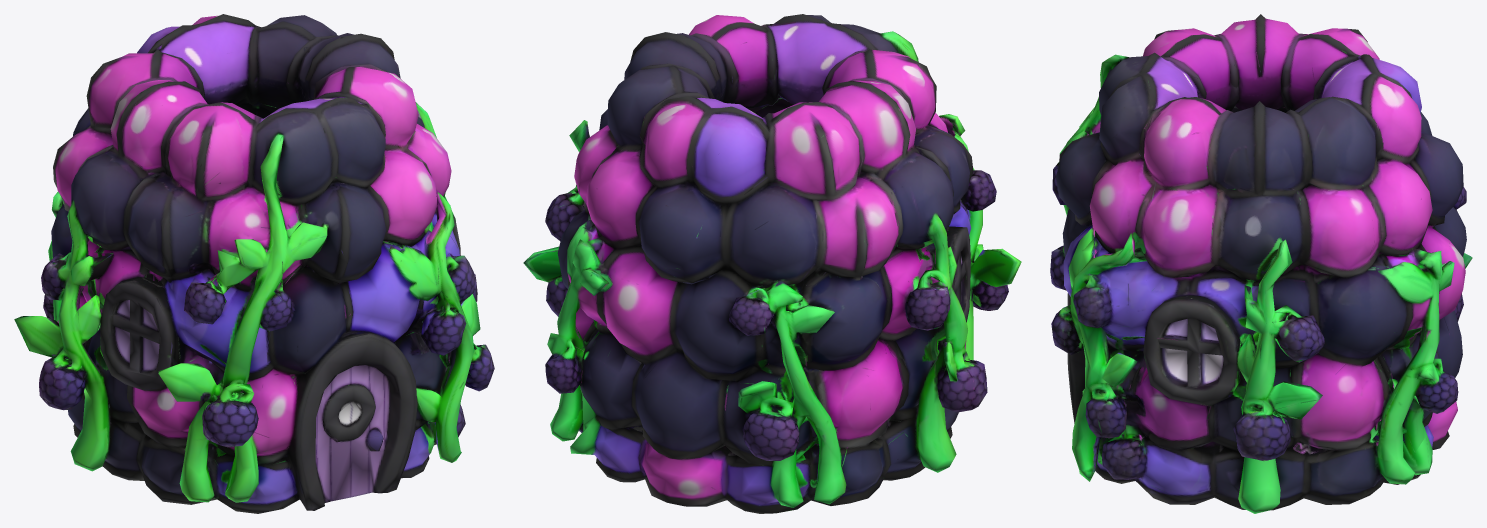
The model's file is Meshy_AI_Generate_a_vibrant_ca_0109095933_texture.fbx.
3 renders of one model, left to right at view 1: azimuth 30°, elevation 25°; view 2: azimuth 150°, elevation 25°; view 3: azimuth 270°, elevation 25°, orthographic.
Visible parts, largest first — view 1: Mesh1.0; view 2: Mesh1.0; view 3: Mesh1.0.
Part boxes in pixels (x1,y1,x2,y2): Mesh1.0: (14,14,494,513); Mesh1.0: (523,14,1021,513); Mesh1.0: (1050,14,1472,513).
Bounding box in the file's own units: 191 × 161 × 164.
1 material, 1 textured.
